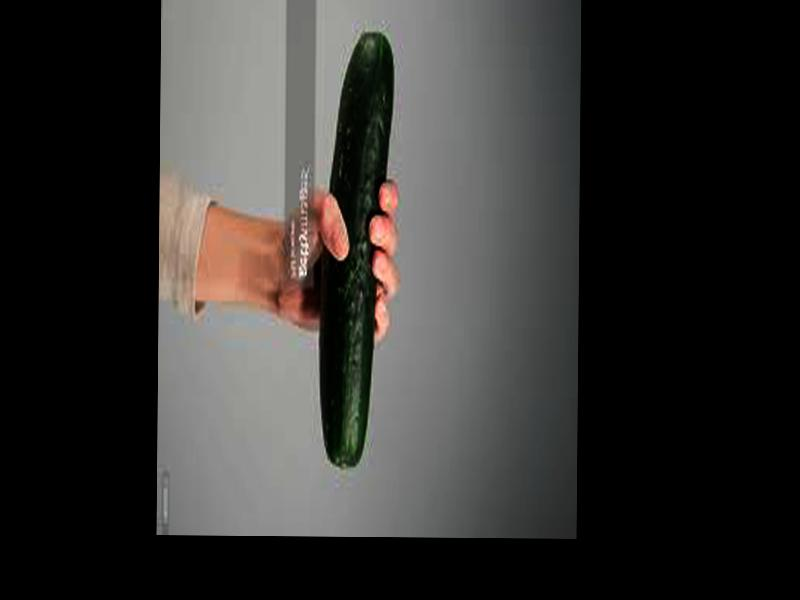Cucumber: (319, 31, 394, 460)
